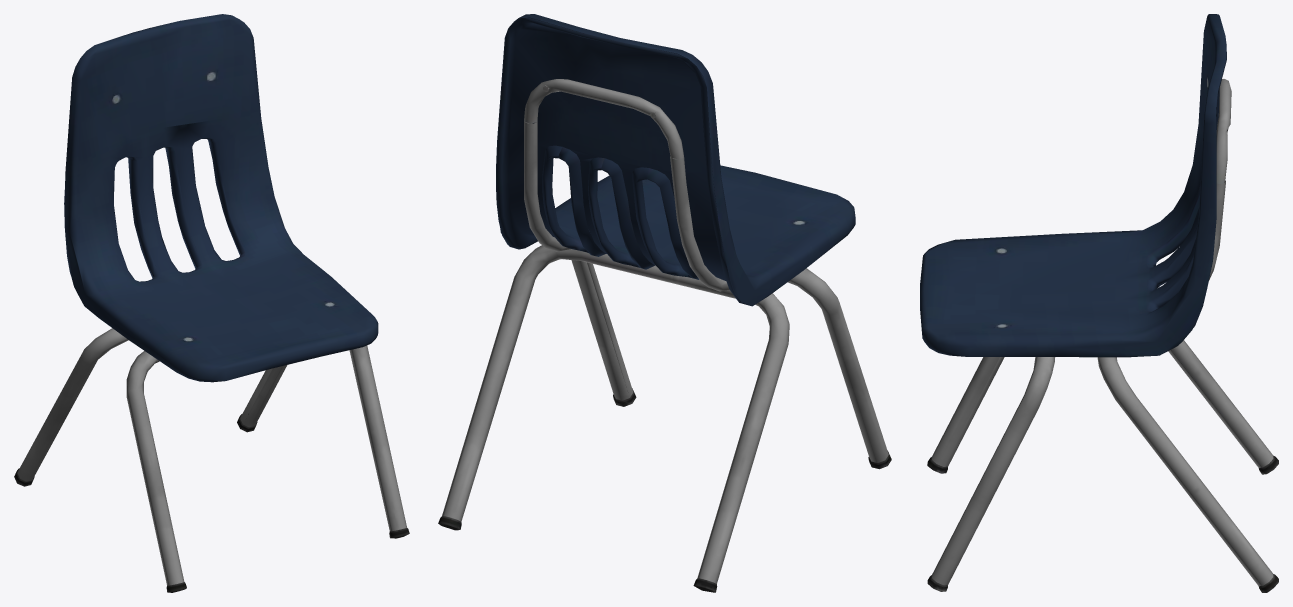
File: chair.glb
3 views of the same model, side by side, from view 1: azimuth 30°, elevation 25°; view 2: azimuth 150°, elevation 25°; view 3: azimuth 270°, elevation 25° (orthographic). The views are drawn at different scales.
Parts seen in each view (by area): view 1: chair; view 2: chair; view 3: chair.
Boxes of the visible parts, box(x1,y1,x2,y2) form: chair: box(14, 14, 409, 592); chair: box(438, 14, 891, 592); chair: box(920, 14, 1278, 592).
Bounding box in the file's own units: 0.5664 × 1.01 × 0.6758.
Materials: 1 (1 with a texture image).
